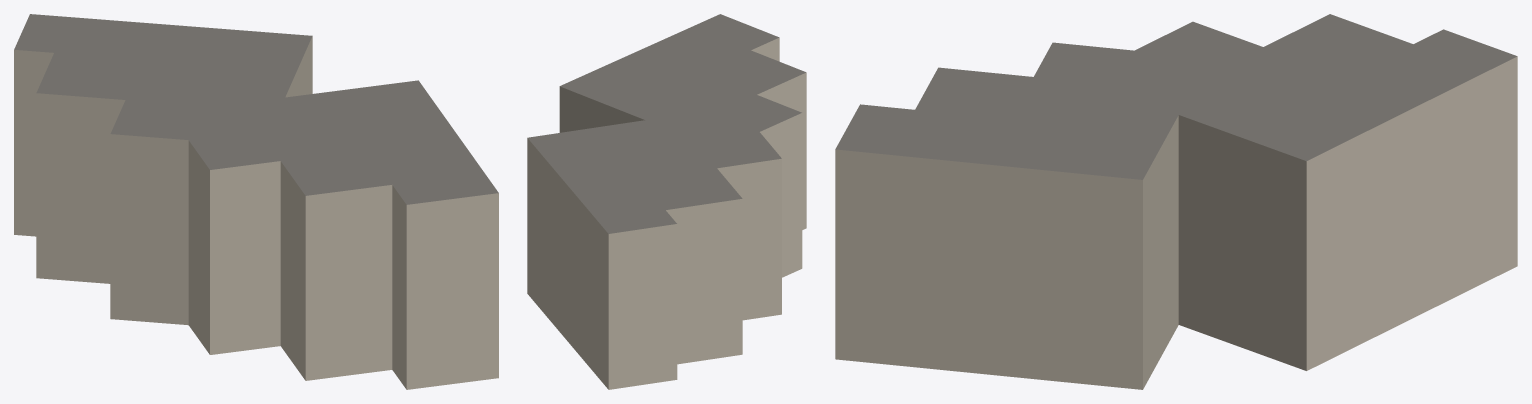
The picture shows the model from 3 angles, left to right: view 1: azimuth 30°, elevation 25°; view 2: azimuth 150°, elevation 25°; view 3: azimuth 270°, elevation 25°; orthographic projection. The views are drawn at different scales.
Parts seen in each view (by area): view 1: HP-w859488838; view 2: HP-w859488838; view 3: HP-w859488838.
Boxes of the visible parts, box(x1,y1,x2,y2) form: HP-w859488838: box(14, 14, 498, 389); HP-w859488838: box(527, 14, 806, 389); HP-w859488838: box(835, 14, 1517, 389).
Bounding box in the file's own units: 30.52 × 18 × 53.02.
